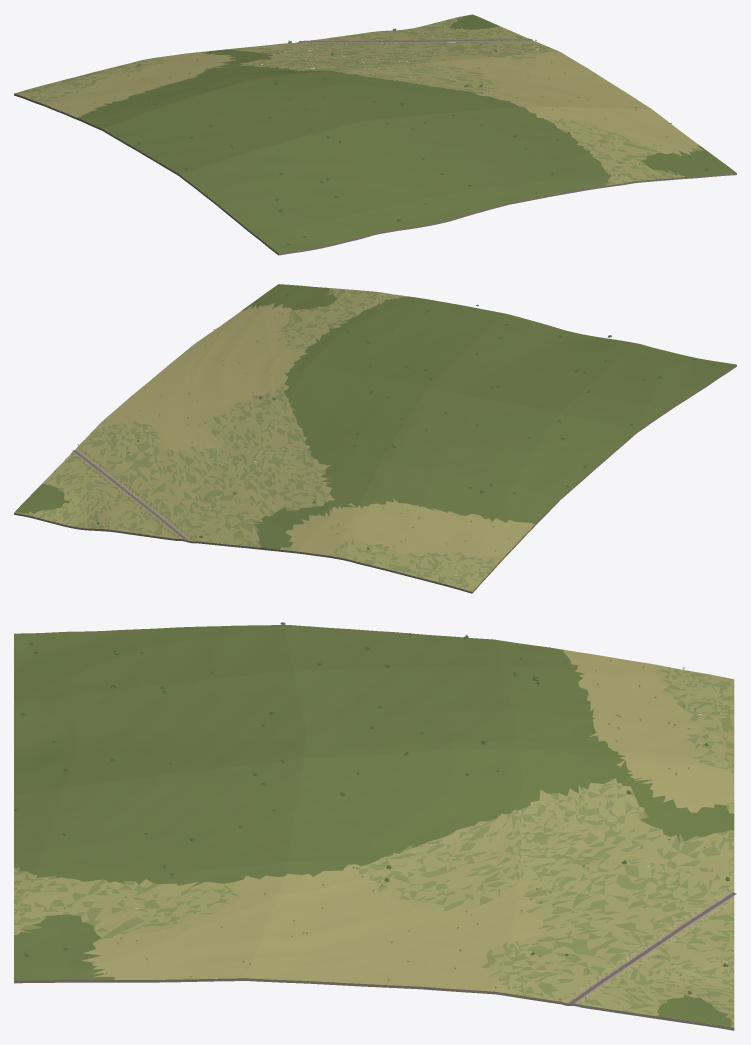
Rendered from parca_+12_-2-yakin.glb.
3 renders of one model, top to bottom at view 1: azimuth 30°, elevation 25°; view 2: azimuth 150°, elevation 25°; view 3: azimuth 270°, elevation 25°, orthographic. The views are drawn at different scales.
Visible parts, largest first — view 1: parca_+12_-2_arazi, parca_+12_-2_bitkiler, parca_+12_-2_yollar; view 2: parca_+12_-2_arazi, parca_+12_-2_bitkiler; view 3: parca_+12_-2_arazi, parca_+12_-2_bitkiler, parca_+12_-2_yollar.
Boxes of the visible parts, x1=… form: parca_+12_-2_arazi: x1=14, y1=14, x2=736, y2=255; parca_+12_-2_bitkiler: x1=32, y1=26, x2=708, y2=245; parca_+12_-2_yollar: x1=299, y1=39, x2=532, y2=42; parca_+12_-2_arazi: x1=14, y1=284, x2=736, y2=593; parca_+12_-2_bitkiler: x1=27, y1=285, x2=715, y2=570; parca_+12_-2_arazi: x1=14, y1=624, x2=734, y2=1030; parca_+12_-2_bitkiler: x1=14, y1=622, x2=734, y2=1020; parca_+12_-2_yollar: x1=569, y1=892, x2=736, y2=1003.
Size of the model in its own units: 1004 by 168 by 1004.
